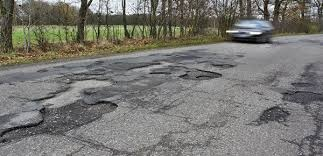pothole: (37, 99, 121, 126), (41, 76, 115, 99), (1, 121, 42, 140), (253, 103, 287, 125), (279, 88, 321, 103), (121, 59, 171, 70), (175, 70, 219, 82), (209, 59, 232, 70), (74, 69, 100, 76), (288, 80, 313, 87), (149, 71, 171, 74)
